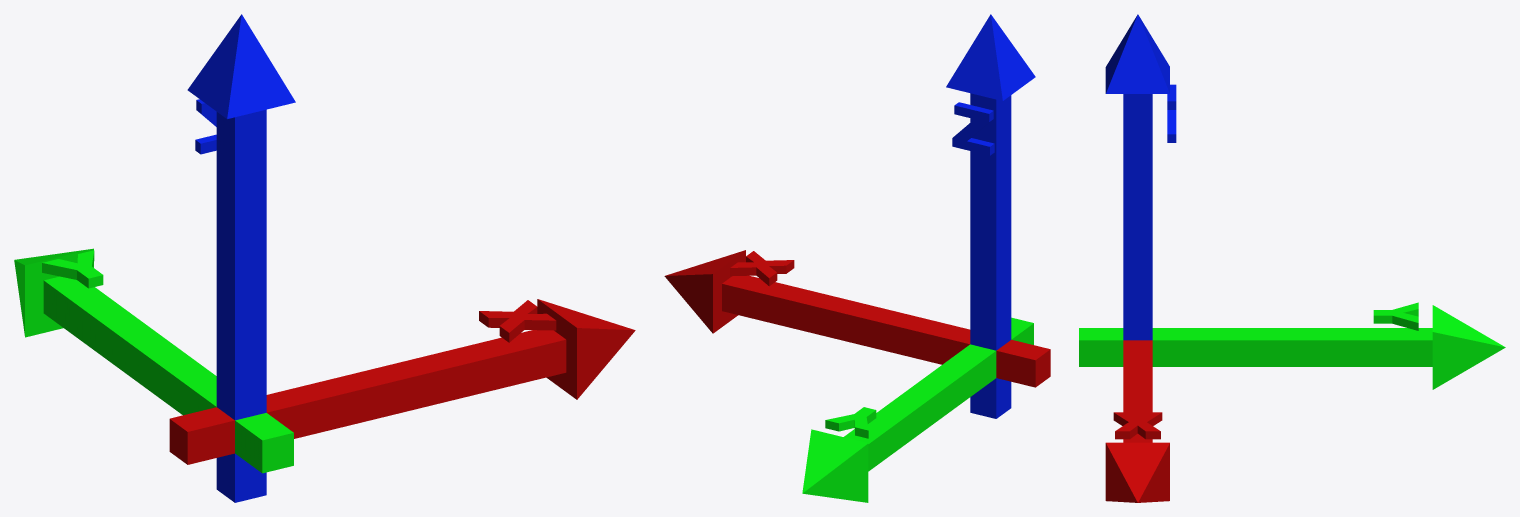
File: AxisSingle.FBX
3 views of the same model, side by side, from view 1: azimuth 30°, elevation 25°; view 2: azimuth 150°, elevation 25°; view 3: azimuth 270°, elevation 25° (orthographic). The views are drawn at different scales.
Parts seen in each view (by area): view 1: AxisArrow004; view 2: AxisArrow004; view 3: AxisArrow004.
Boxes of the visible parts, bbox=[...] form: AxisArrow004: bbox=[14, 14, 635, 502]; AxisArrow004: bbox=[664, 14, 1050, 502]; AxisArrow004: bbox=[1079, 14, 1505, 502].
Size of the model in its own units: 145 by 145 by 145.
